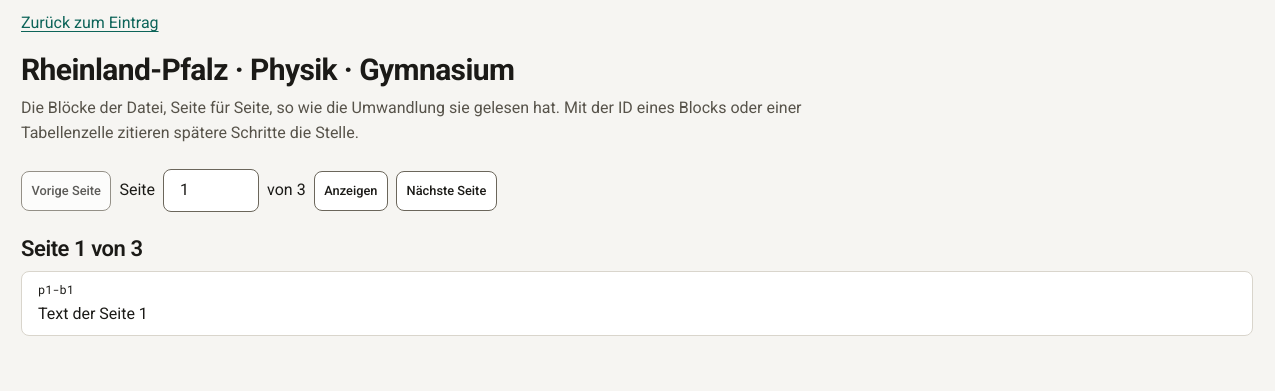
Test: an entry's blocks › show the page it was moved on to, whichever answer comes last
The image size is (1275, 391).
What coordinates should you click on to do the following:
click the button with test id "next"
I would click on:
 (446, 191)
Its box is x1=396 y1=171 x2=497 y2=211.
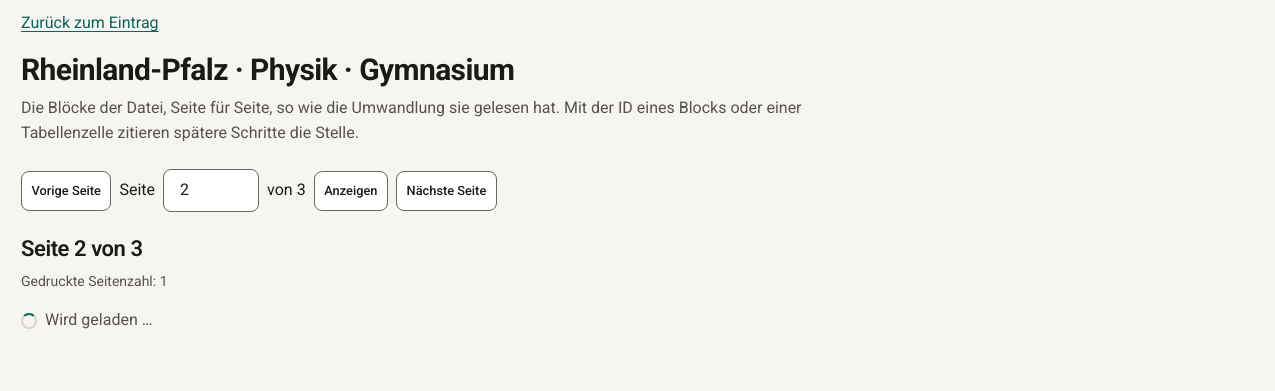
What coordinates should you click on to do the following:
click the button with test id "next"
I would click on:
 (446, 191)
Its box is x1=396 y1=171 x2=497 y2=211.
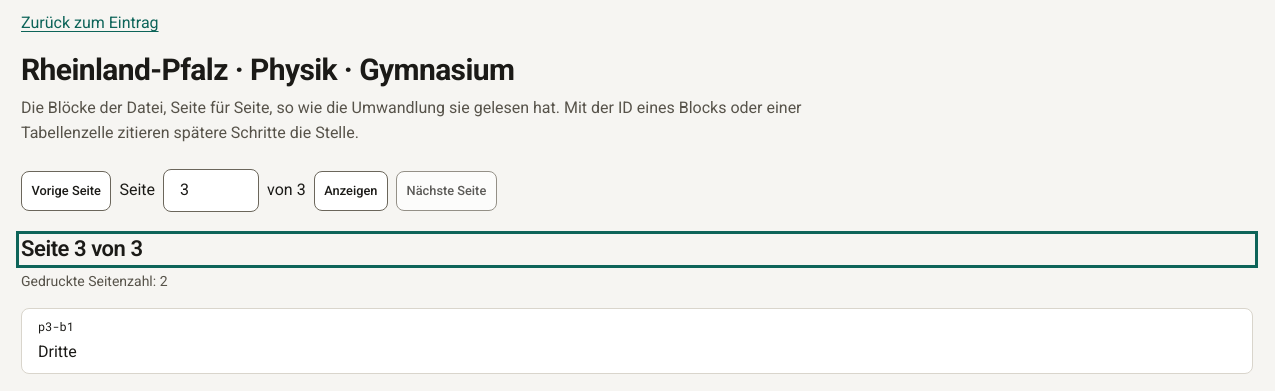
Check: the text with class "block__text" reads "Dritte", box x1=38 y1=342 x2=77 y2=361
